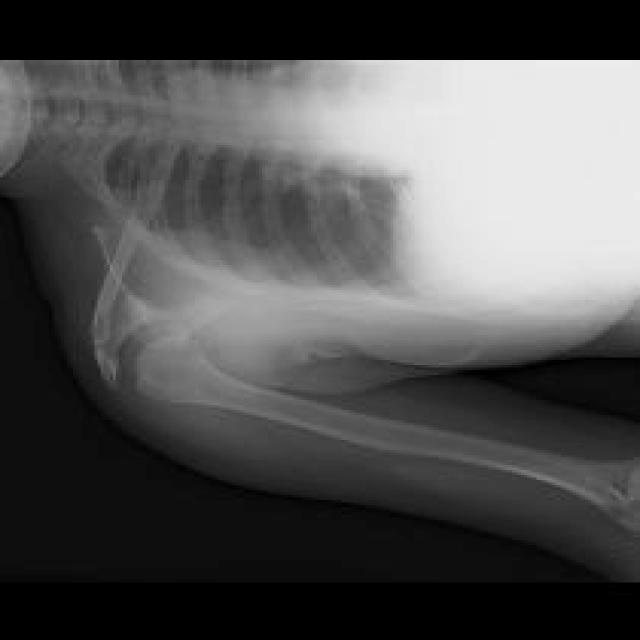normal: (137, 338, 640, 533)
